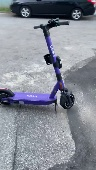beam: (1, 18, 79, 111)
